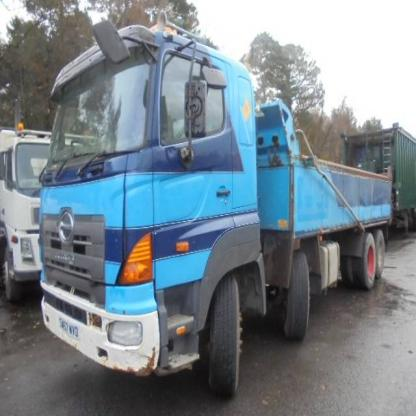dump_truck: (35, 8, 392, 400)
